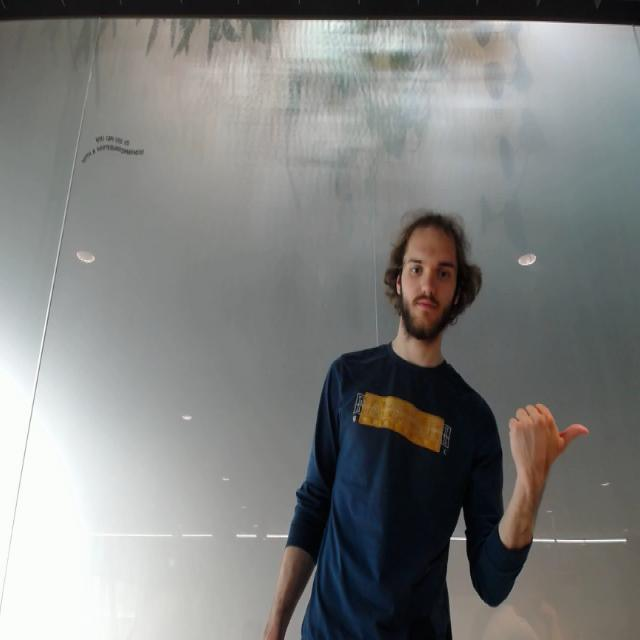right: (500, 399, 596, 473)
